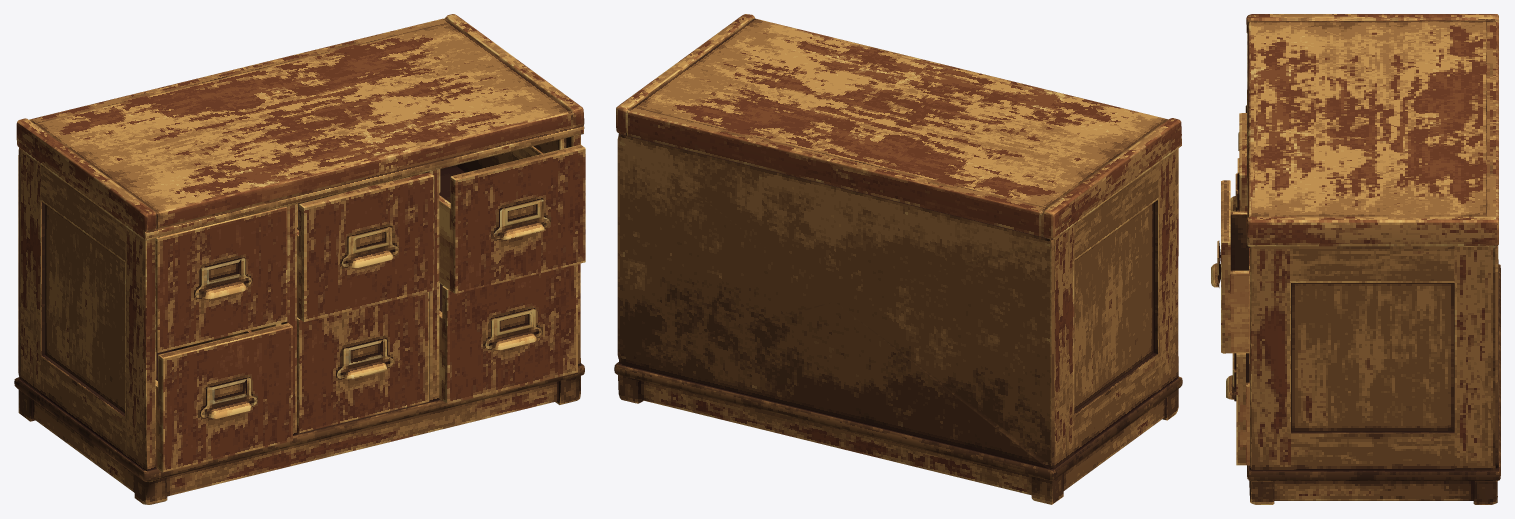
The model's file is vintage_wooden_drawer_01.glb.
The picture shows the model from 3 angles, left to right: view 1: azimuth 30°, elevation 25°; view 2: azimuth 150°, elevation 25°; view 3: azimuth 270°, elevation 25°; orthographic projection. The views are drawn at different scales.
Visible parts, largest first — view 1: body; view 2: body; view 3: body.
Boxes of the visible parts, x1,y1,x2,y2 form: body: (14, 14, 585, 504); body: (614, 14, 1182, 504); body: (1211, 14, 1500, 504).
Bounding box in the file's own units: 1.72 × 1.09 × 1.01.
1 material, 1 textured.
